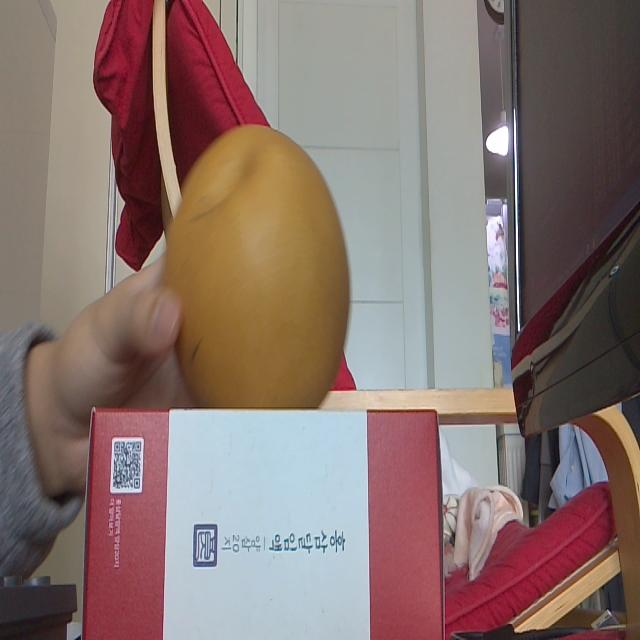pear: (166, 123, 350, 407)
